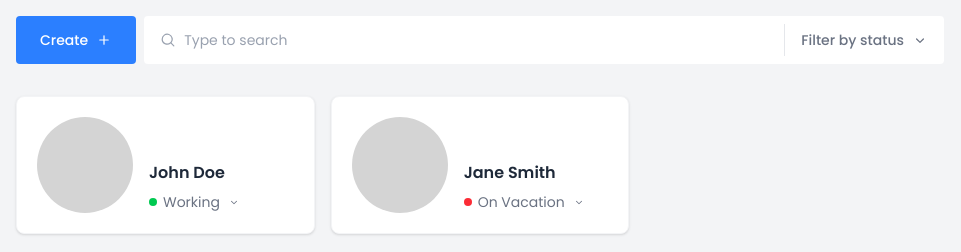
EmployeesPanel › filters employees by search query
Type "John" into the field with placeholder "Type to search". click: coordinates (476, 40)
box: [184,16,768,64]
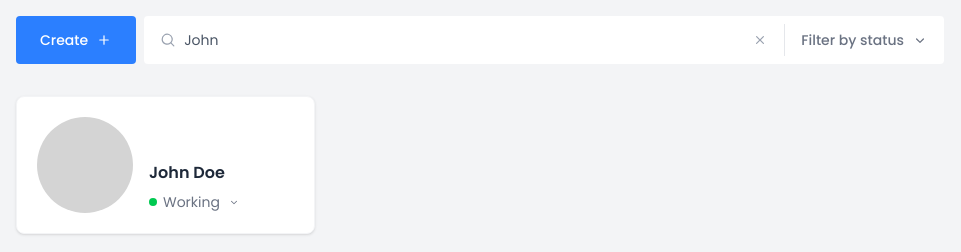
Expected: the text "John Doe" is shown, [149,161,225,184]
Expected: the text "Jane Smith" is gone
